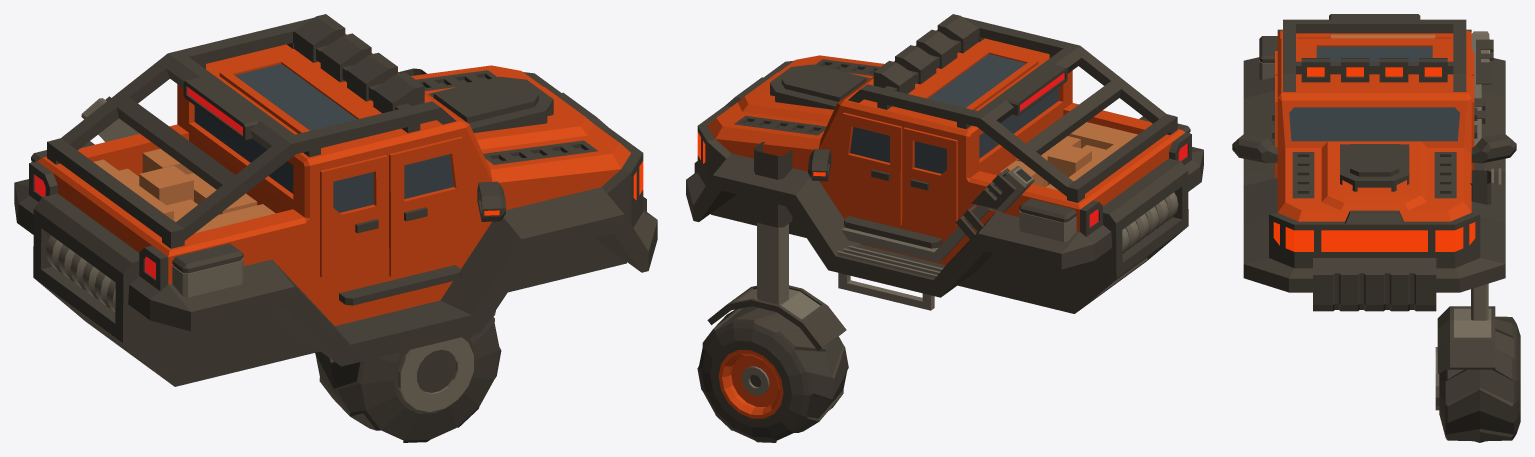
The picture shows the model from 3 angles, left to right: view 1: azimuth 30°, elevation 25°; view 2: azimuth 150°, elevation 25°; view 3: azimuth 270°, elevation 25°; orthographic projection. The views are drawn at different scales.
Visible parts, largest first — view 1: bodyBlack, bodyRed, wheel.001, glass, boxes, bodyMetal, wheelGuard.002, wheelGuard, stopLights; view 2: bodyBlack, bodyRed, wheel.001, bodyMetal, glass, boxes, wheel.002, Cylinder.016, wheelGuard, Cylinder.023, wheelGuard.002, stopLights (+1 smaller); view 3: bodyBlack, bodyRed, glass, wheel.001, headlights, wheelGuard, wheelGuard.002, bodyMetal, Cylinder.023, Cylinder.016, boxes.
Part boxes in pixels (<box>): bodyBlack: <box>14,14,657,386</box>; bodyRed: <box>37,33,630,325</box>; wheel.001: <box>315,317,501,442</box>; glass: <box>194,63,453,212</box>; boxes: <box>93,148,275,233</box>; bodyMetal: <box>31,98,243,311</box>; wheelGuard.002: <box>398,337,473,411</box>; wheelGuard: <box>397,310,495,392</box>; stopLights: <box>34,87,242,278</box>; bodyBlack: <box>686,14,1203,313</box>; bodyRed: <box>707,30,1185,264</box>; wheel.001: <box>697,306,848,442</box>; bodyMetal: <box>837,132,1190,310</box>; glass: <box>850,54,1058,173</box>; boxes: <box>1000,122,1137,190</box>; wheel.002: <box>718,350,783,418</box>; Cylinder.016: <box>757,222,788,304</box>; wheelGuard: <box>707,285,846,350</box>; Cylinder.023: <box>754,142,792,227</box>; wheelGuard.002: <box>737,289,820,319</box>; stopLights: <box>1020,73,1187,227</box>; bodyBlack: <box>1232,14,1516,311</box>; bodyRed: <box>1275,30,1474,221</box>; glass: <box>1289,46,1459,141</box>; wheel.001: <box>1439,316,1520,442</box>; headlights: <box>1285,67,1463,251</box>; wheelGuard: <box>1437,306,1495,373</box>; wheelGuard.002: <box>1435,308,1491,410</box>; bodyMetal: <box>1259,31,1501,184</box>; Cylinder.023: <box>1470,170,1491,204</box>; Cylinder.016: <box>1471,283,1488,320</box>; boxes: <box>1331,34,1435,38</box>.
Size of the model in its own units: 2.99 by 2.48 by 1.91.
